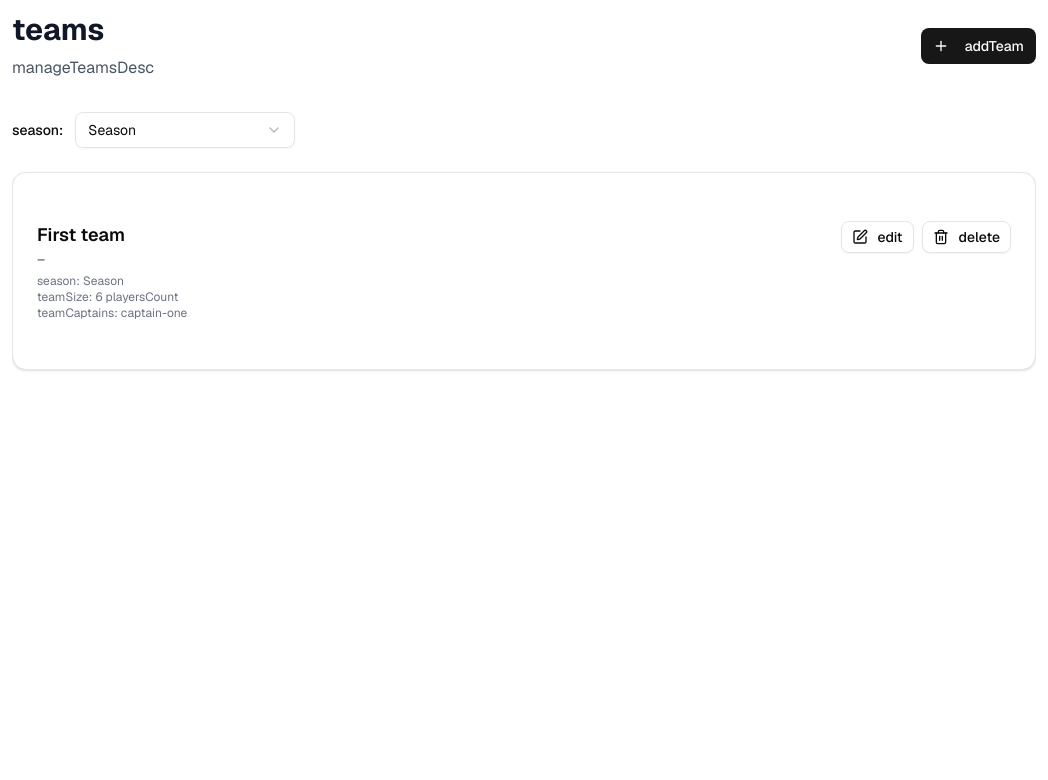
Test: lets an admin replace a team's captain assignments
The width and height of the screenshot is (1048, 780).
What coordinates should you click on to do the following:
click the button "edit"
I would click on:
 (877, 237)
Its box is [840,221,914,253].
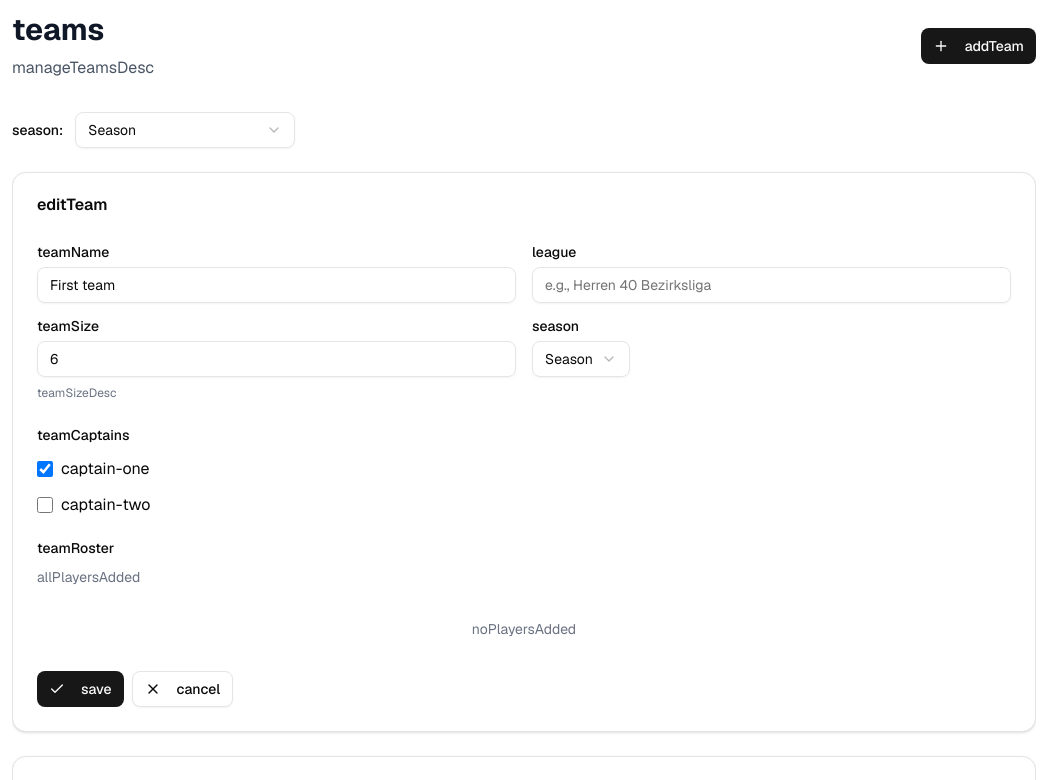
Result: the text "editTeam" is shown at [37,194,108,215]
Result: the checkbox labelled "captain-one" is checked at [37,461,53,477]
What coordinates should you click on to do the following:
click the checkbox labelled "captain-two"
I would click on:
 (45, 505)
Its box is [37,497,53,513].
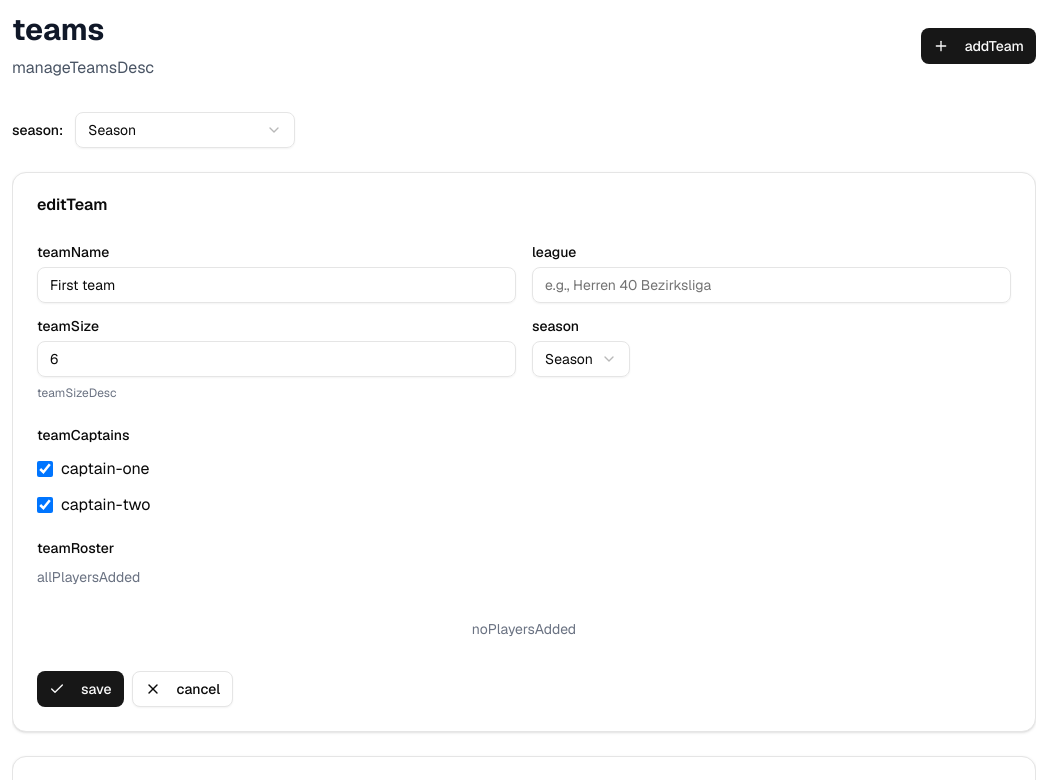
What coordinates should you click on to do the following:
click the button "save"
I would click on:
 (80, 689)
Its box is [37,671,124,707].
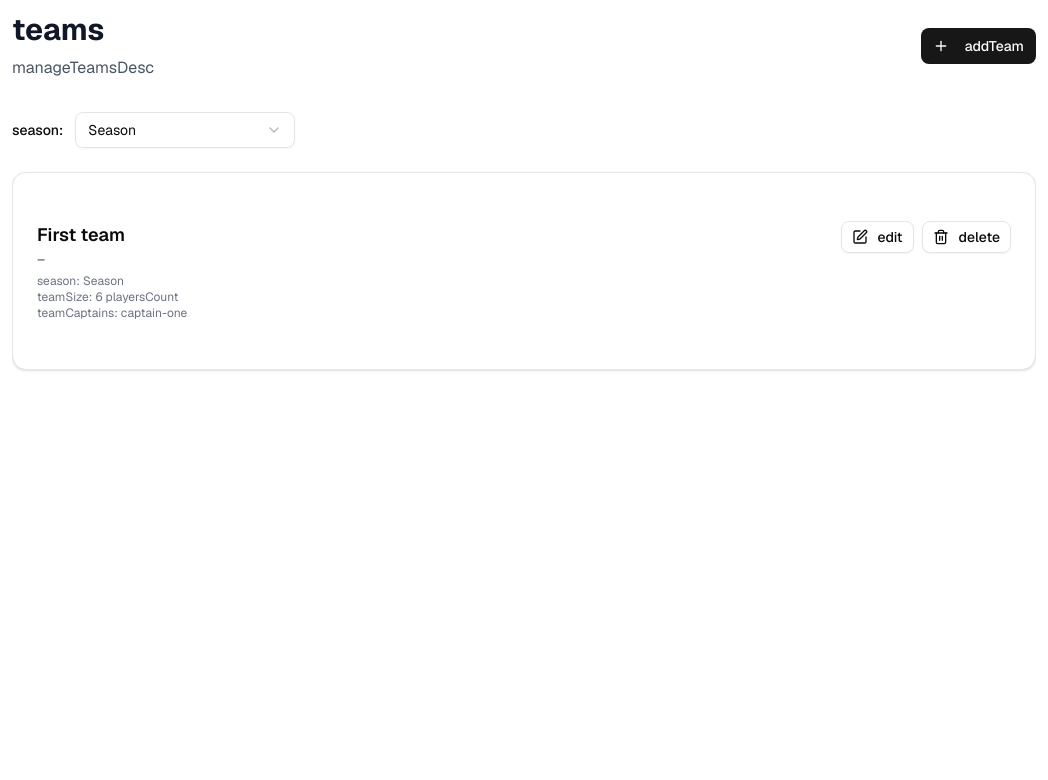
Result: the checkbox is gone
